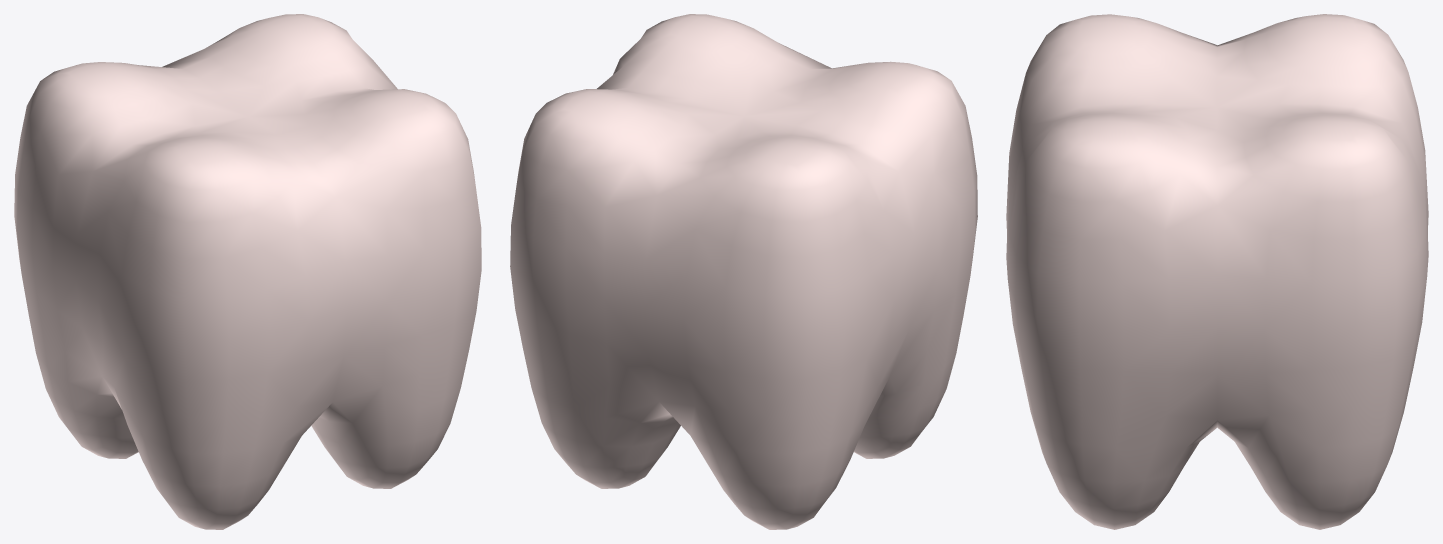
Rendered from Public_20_Tooth_1.glb.
The picture shows the model from 3 angles, left to right: view 1: azimuth 30°, elevation 25°; view 2: azimuth 150°, elevation 25°; view 3: azimuth 270°, elevation 25°; orthographic projection. The views are drawn at different scales.
Parts seen in each view (by area): view 1: Public_20_Tooth_1; view 2: Public_20_Tooth_1; view 3: Public_20_Tooth_1.
Boxes of the visible parts, x1,y1,x2,y2 form: Public_20_Tooth_1: (14, 14, 481, 529); Public_20_Tooth_1: (510, 14, 977, 529); Public_20_Tooth_1: (1006, 14, 1428, 529).
Bounding box in the file's own units: 1.4 × 1.48 × 1.4.
1 material, 1 textured.
